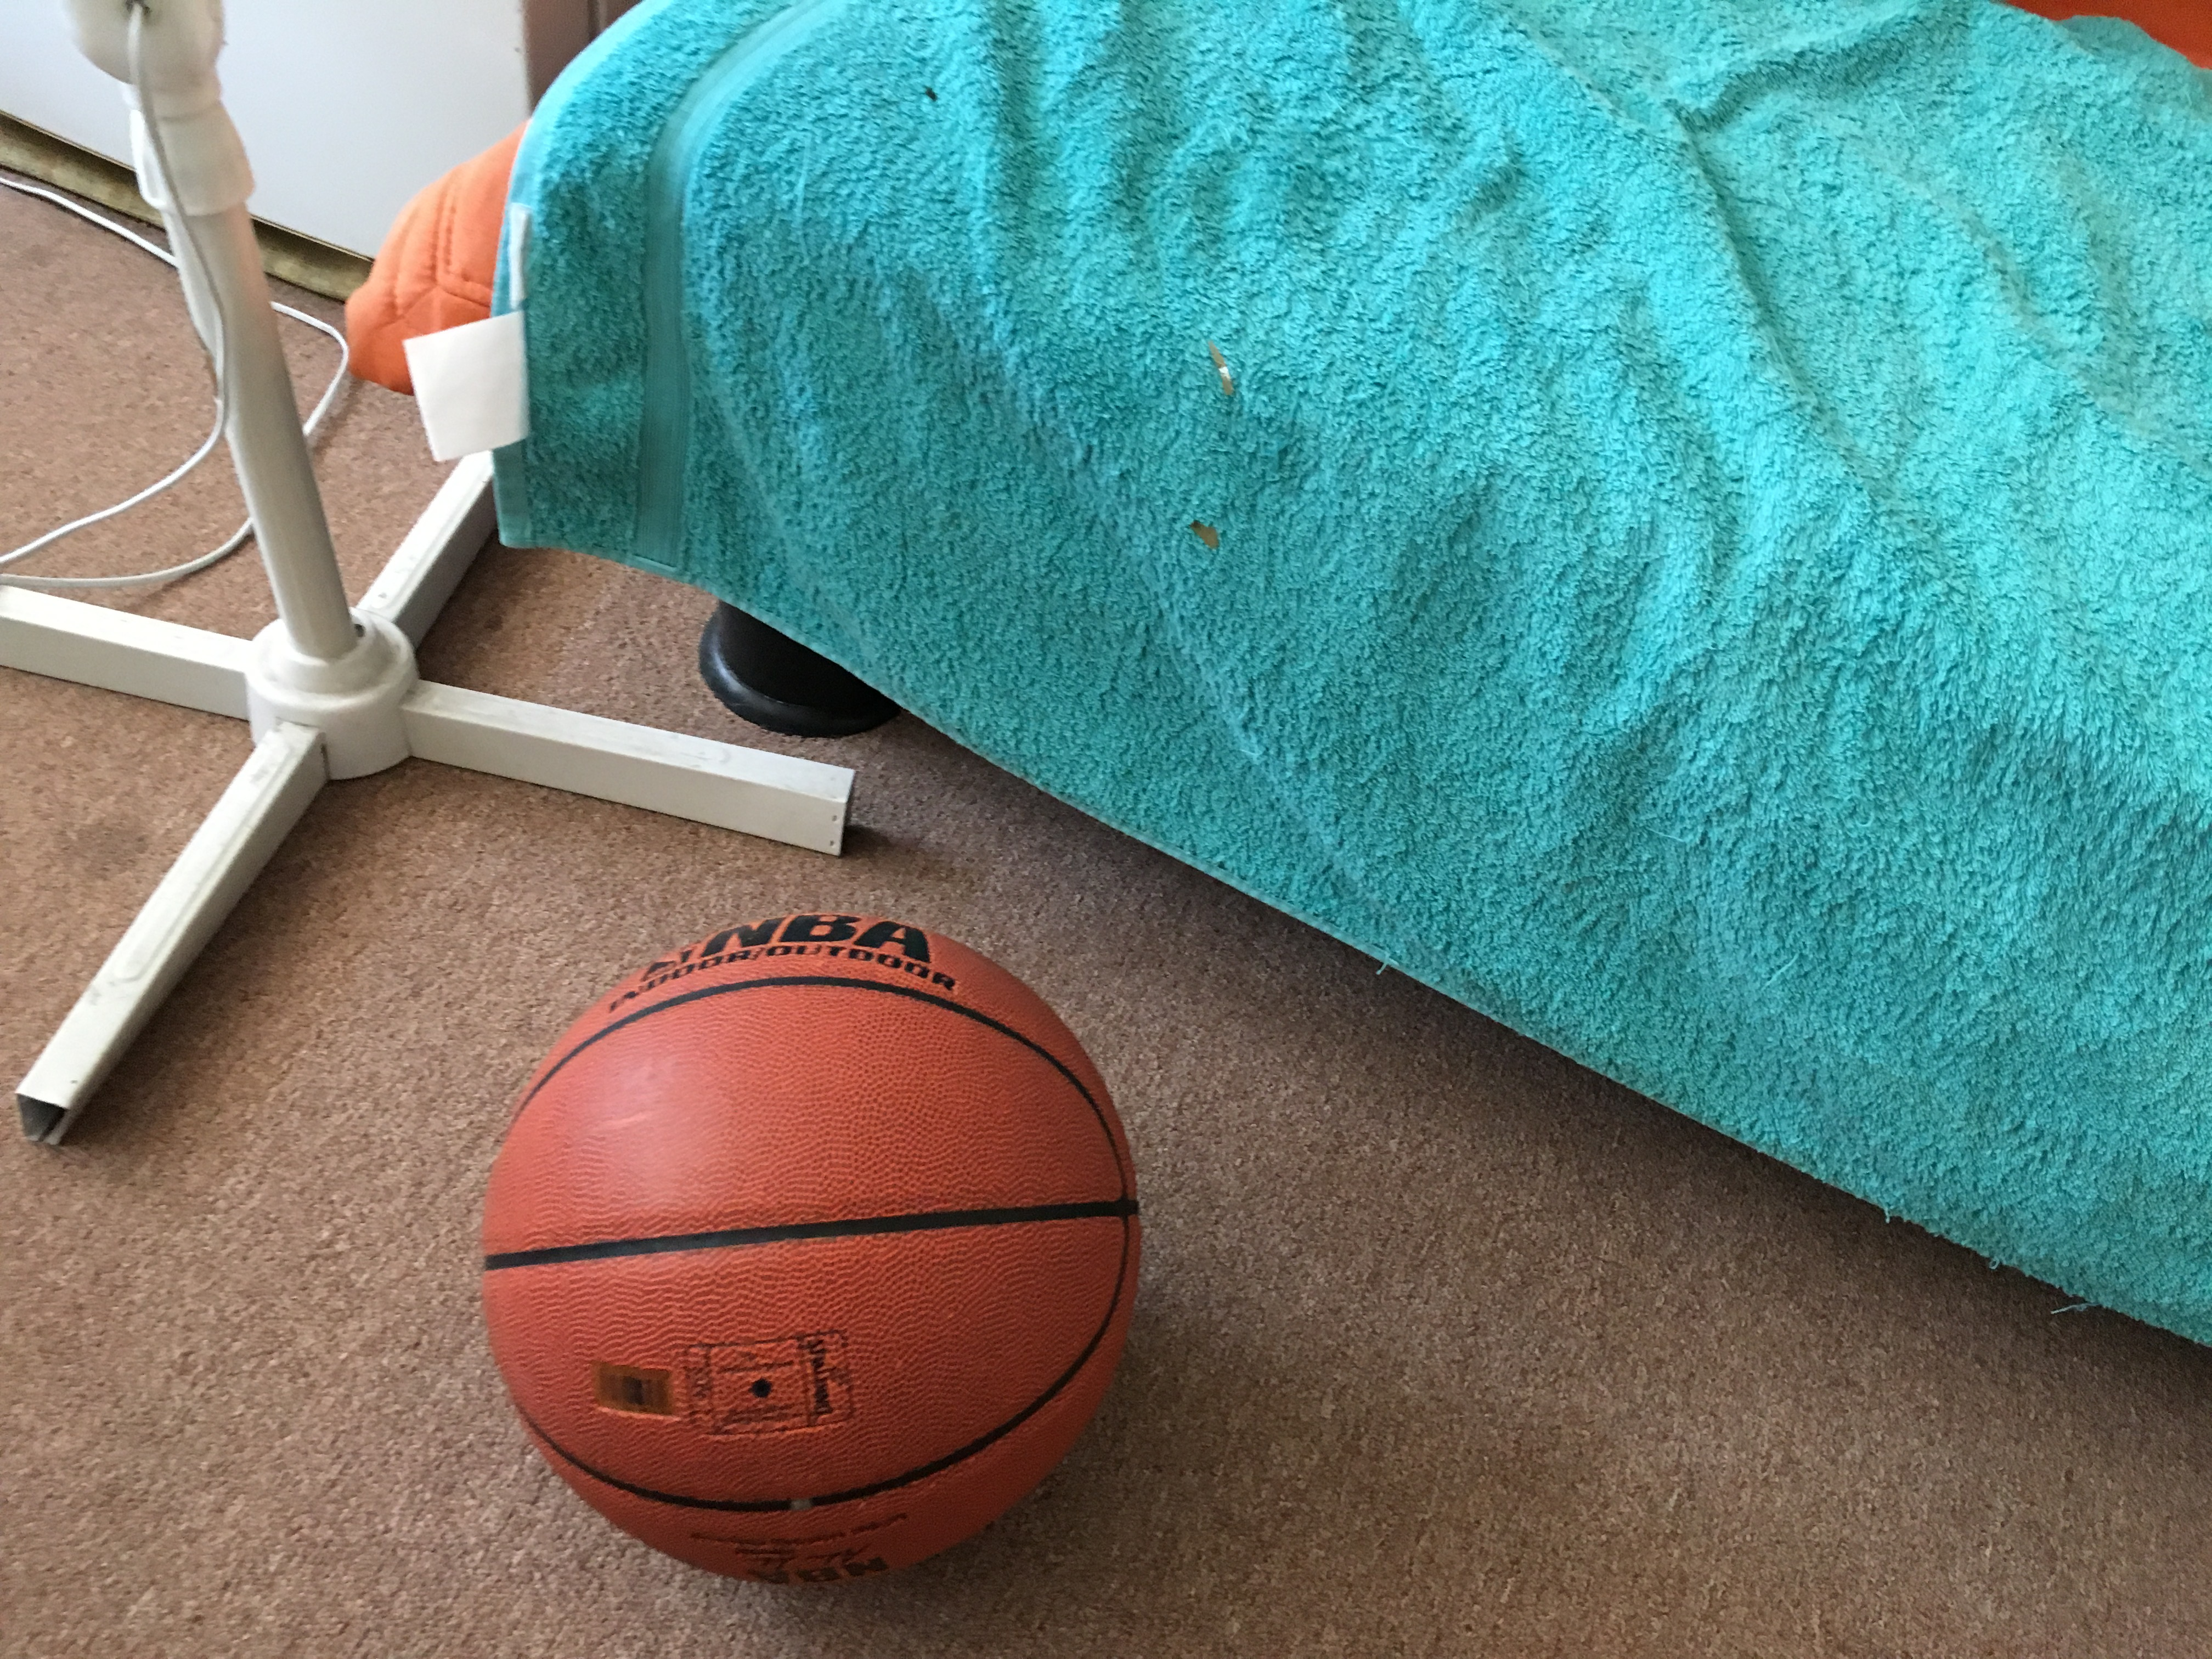Basketball: (460, 901, 1172, 1612)
